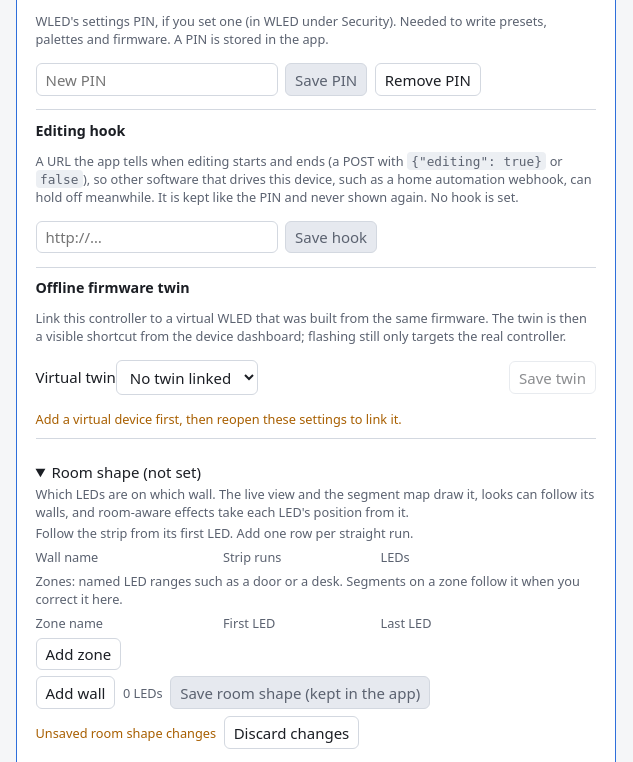
the room shape is here, opened when asked for, with the device's LED count
(page scrolled)
Expected: the heading "Room shape (not set)" is shown, [51,462,201,482]
Click the button "Add wall".
click(75, 693)  # box [36,676,115,709]
(page scrolled)
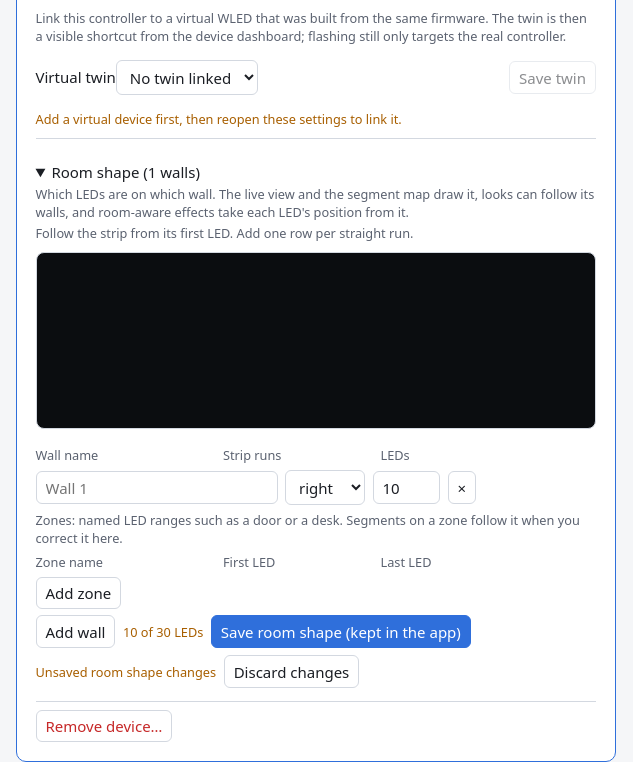
Expected: the text "10 of 30 LEDs" is shown, [123,622,203,640]
